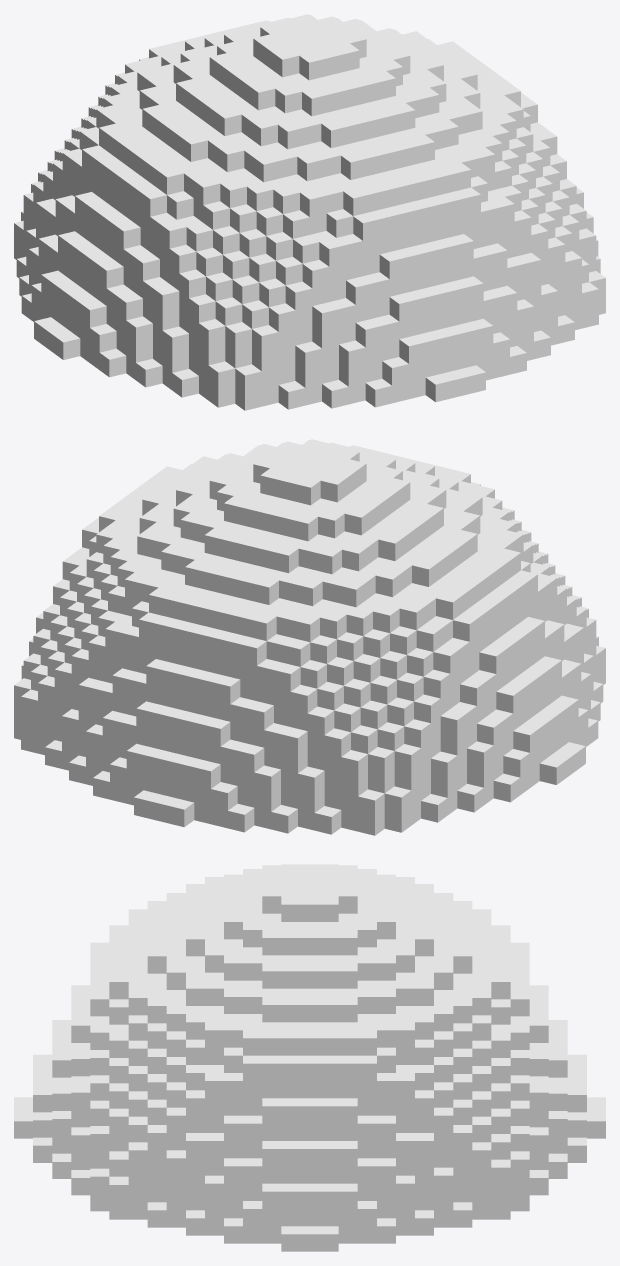
Rendered from UpBody.obj.
3 views of the same model, one above another, from view 1: azimuth 30°, elevation 25°; view 2: azimuth 150°, elevation 25°; view 3: azimuth 270°, elevation 25° (orthographic).
Bounding box in the file's own units: 31 × 14 × 31.
Materials: 1 (1 with a texture image).
